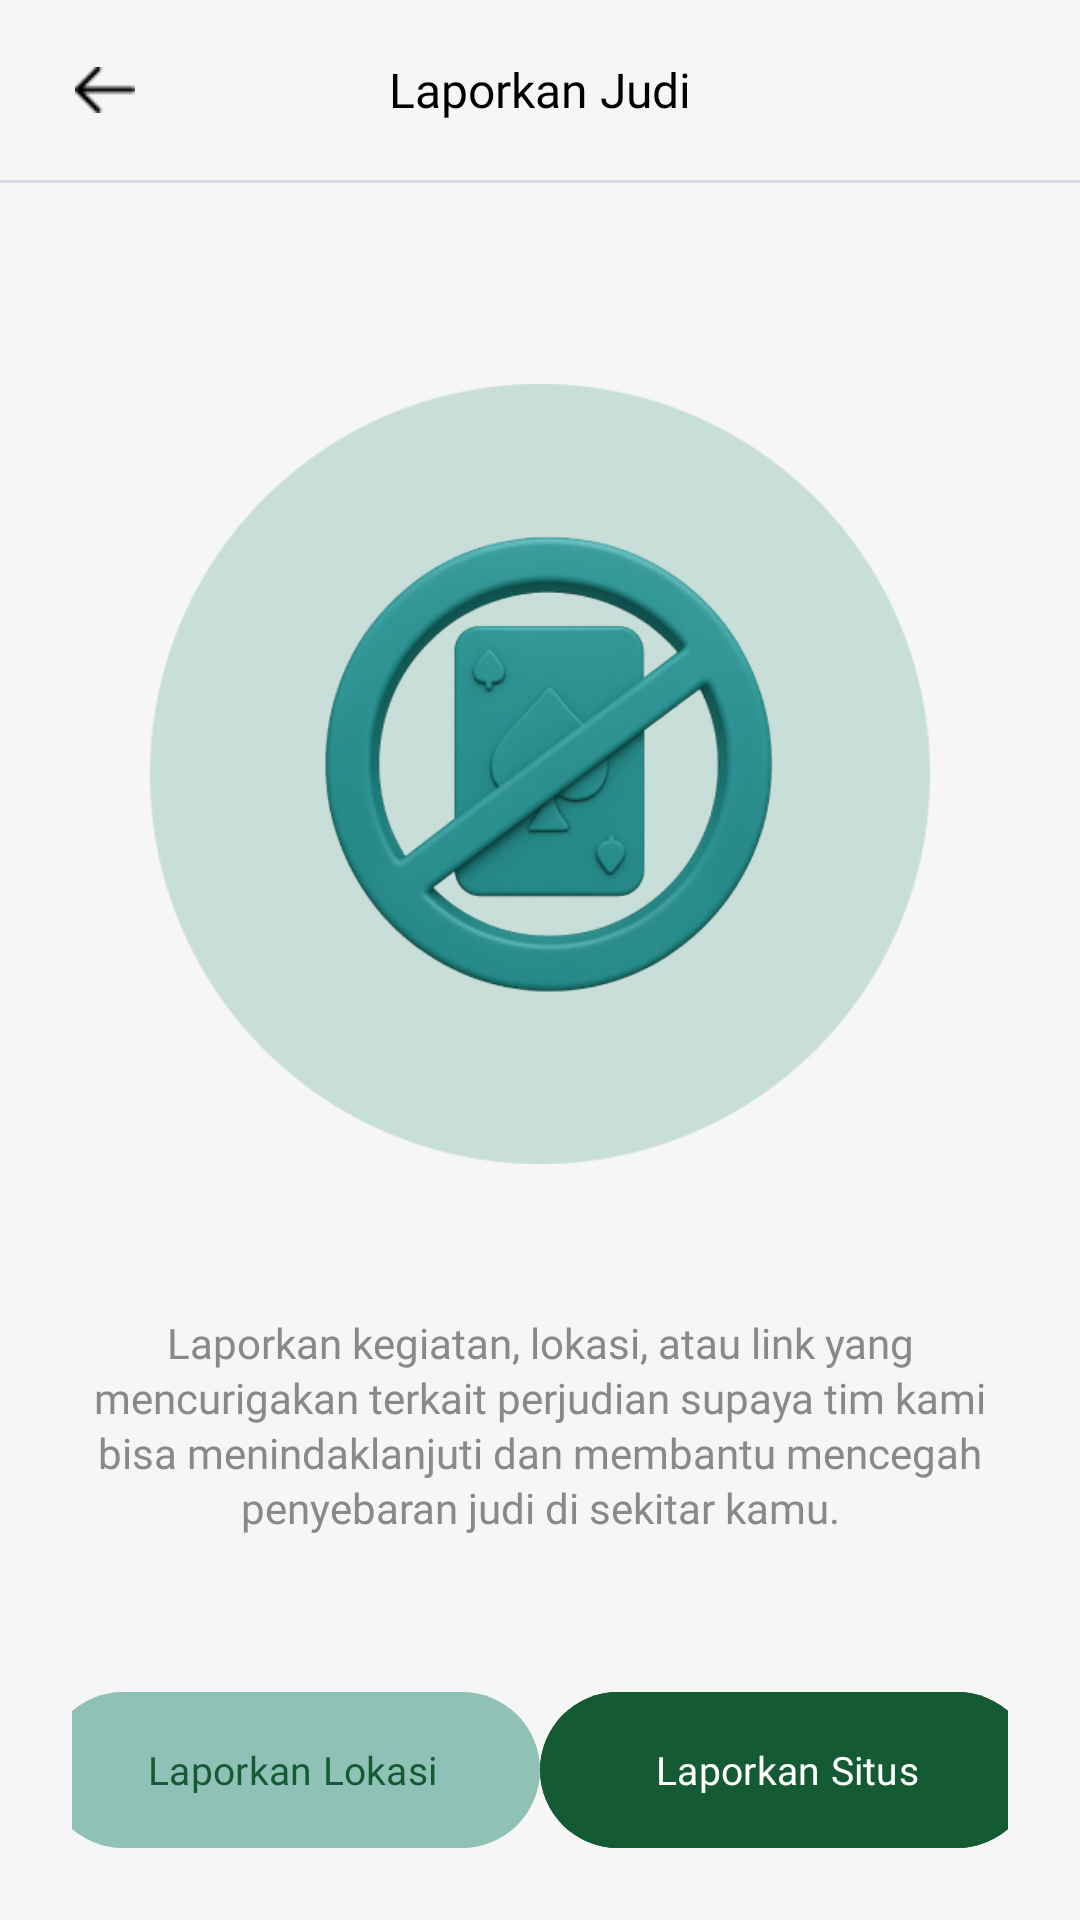

Locate icon controls on the screen. Image size 1080 × 1920, boxes as [x1=x1, y1=y1, x2=x2, y2=y2].
arrow left: [x1=75, y1=67, x2=135, y2=113]
